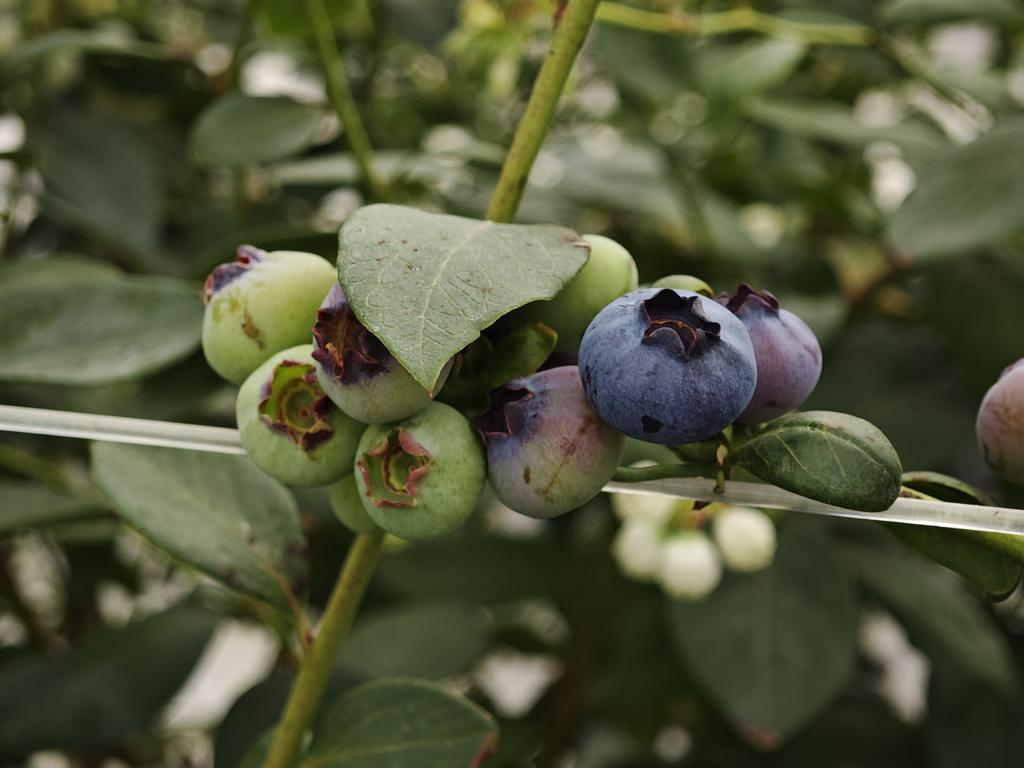RipeBlueBerry: (578, 284, 759, 447)
Semi-RipeBlueBerry: (482, 361, 627, 522)
UnripeBlueBerry: (198, 244, 337, 384), (350, 401, 484, 545)
